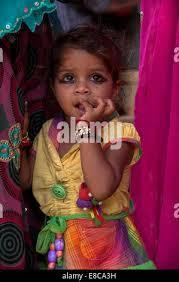Human: (34, 30, 148, 272)
